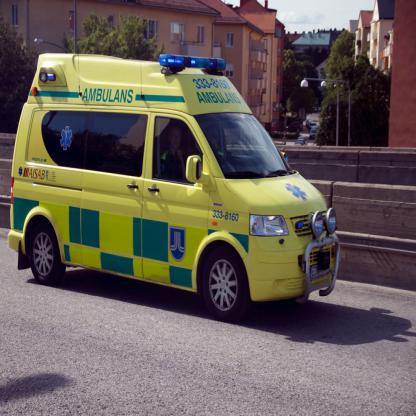Ambulance: (7, 52, 341, 324)
Car: (306, 119, 320, 139), (286, 121, 301, 134), (294, 137, 305, 146), (271, 122, 280, 132)
